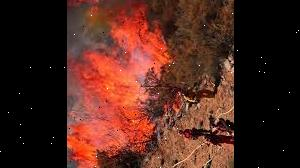fire: (66, 0, 181, 168)
